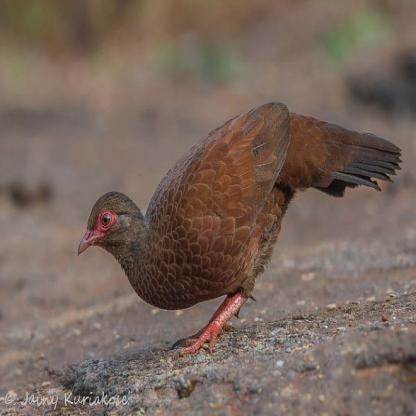Burung: (75, 101, 400, 363)
